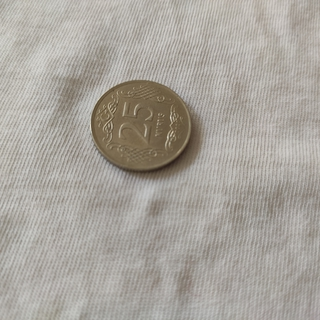25KURUS: (88, 79, 193, 174)
